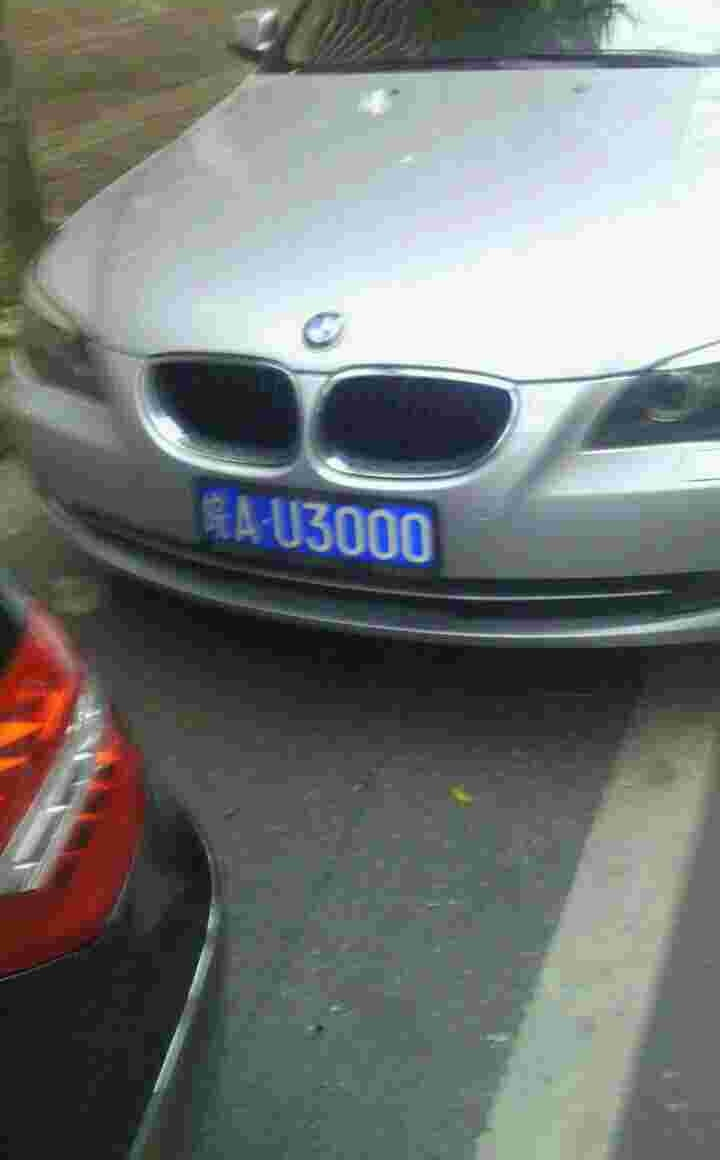plate: (190, 472, 442, 580)
